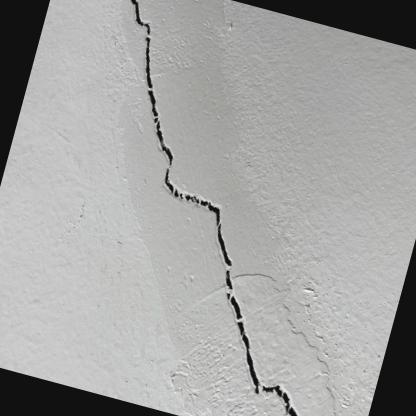crack: (131, 0, 151, 87), (236, 320, 258, 393), (262, 384, 299, 416), (155, 119, 172, 165), (216, 221, 231, 264), (200, 197, 219, 225), (229, 294, 241, 318), (147, 88, 157, 115), (163, 167, 172, 192), (183, 192, 198, 202), (224, 269, 231, 289), (173, 187, 177, 195), (225, 291, 229, 299), (178, 192, 182, 198), (153, 116, 157, 121)
